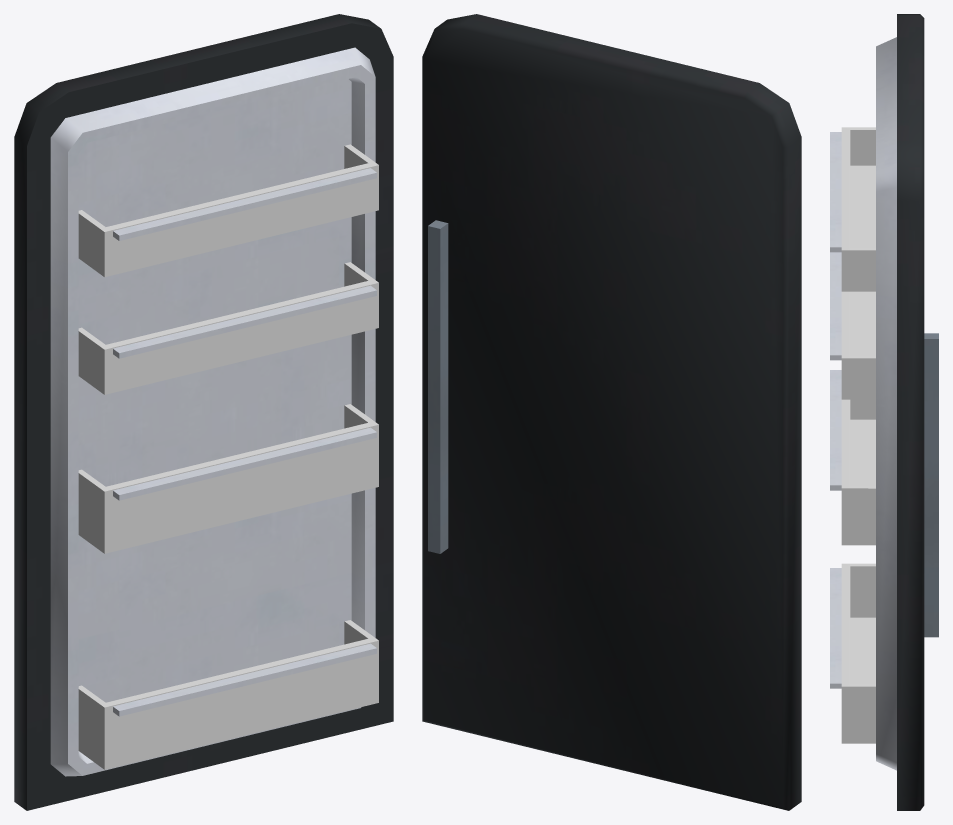
File: Refrigerator_door_06.glb
3 views of the same model, side by side, from view 1: azimuth 30°, elevation 25°; view 2: azimuth 150°, elevation 25°; view 3: azimuth 270°, elevation 25° (orthographic). The views are drawn at different scales.
Visible parts, largest first — view 1: Refrigerator_door_06; view 2: Refrigerator_door_06; view 3: Refrigerator_door_06.
Boxes of the visible parts, x1=… form: Refrigerator_door_06: x1=14, y1=14, x2=393, y2=810; Refrigerator_door_06: x1=422, y1=14, x2=801, y2=810; Refrigerator_door_06: x1=830, y1=14, x2=938, y2=810.
Size of the model in its own units: 0.7111 by 1.31 by 0.1989.
Materials: 4 (3 with a texture image).
